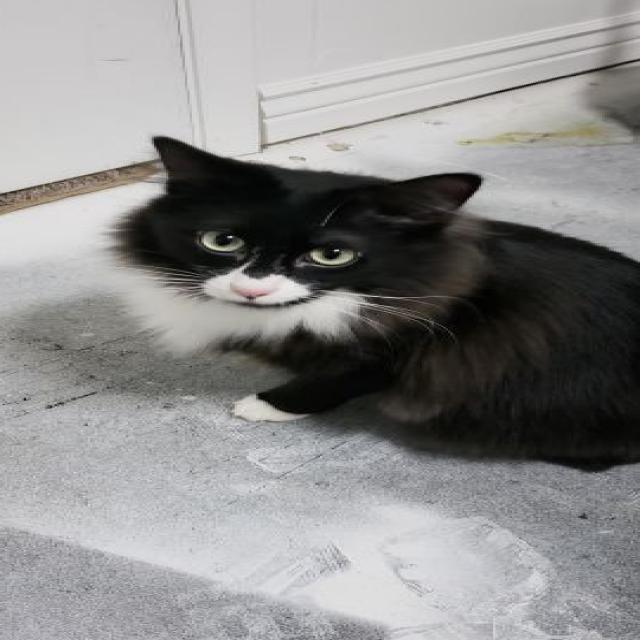Tuxedo: (99, 132, 640, 475)
